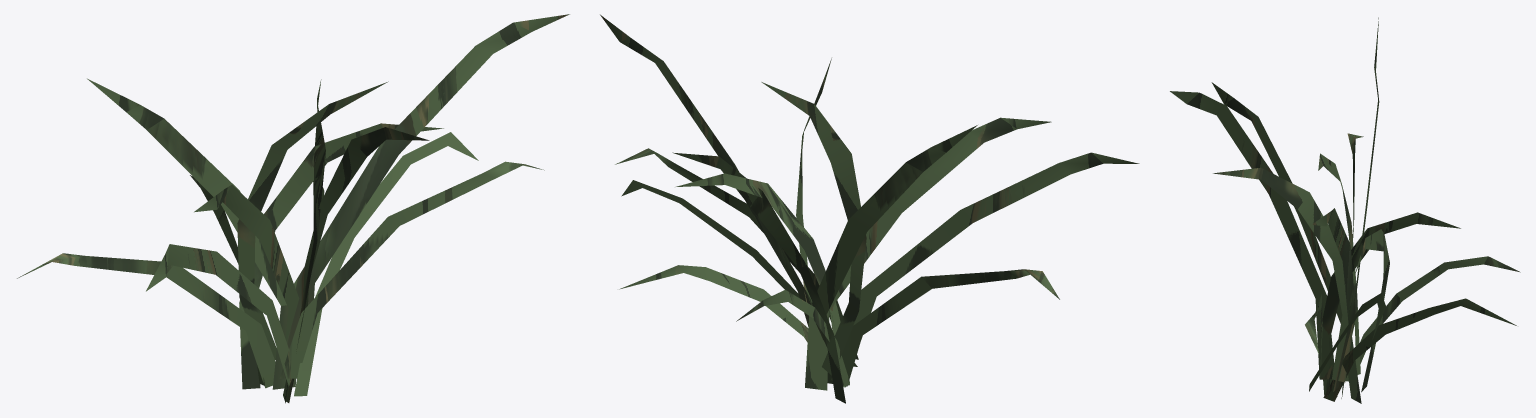
File: SM_Grass_02.fbx
The picture shows the model from 3 angles, left to right: view 1: azimuth 30°, elevation 25°; view 2: azimuth 150°, elevation 25°; view 3: azimuth 270°, elevation 25°; orthographic projection. The views are drawn at different scales.
Parts seen in each view (by area): view 1: Cube.001; view 2: Cube.001; view 3: Cube.001.
Part boxes in pixels (x1,y1,x2,y2): Cube.001: [17, 14, 569, 403]; Cube.001: [600, 14, 1139, 403]; Cube.001: [1170, 17, 1520, 403].
Bounding box in the file's own units: 143 × 90.17 × 92.42.
Materials: 1 (1 with a texture image).
